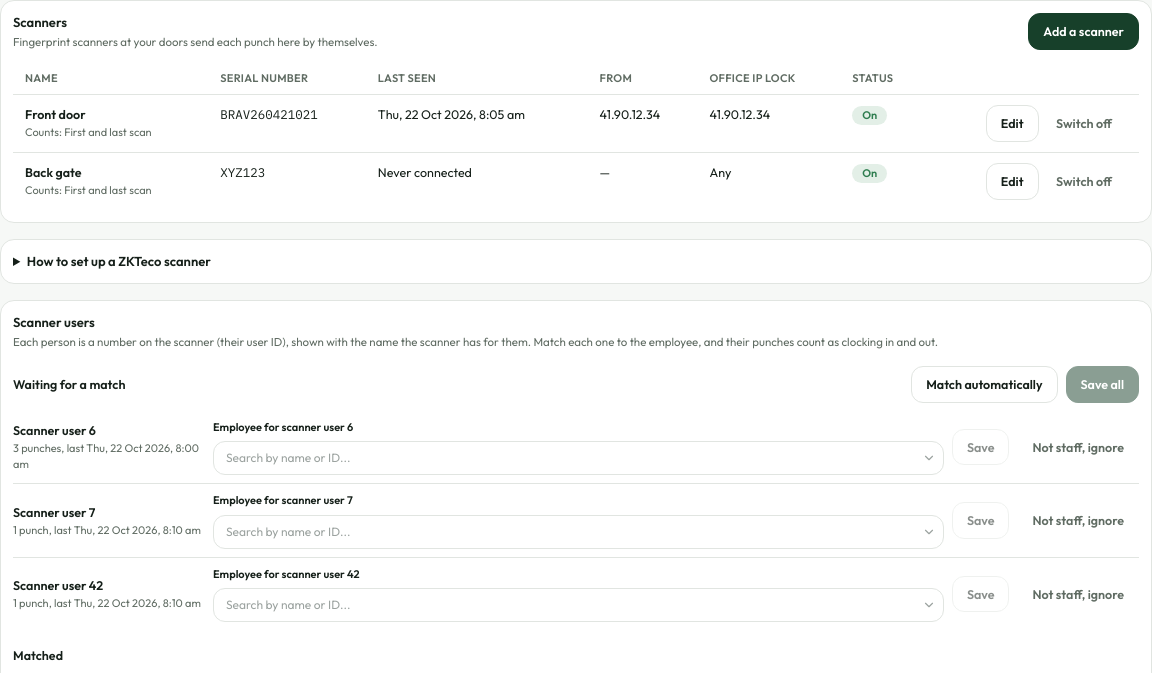
Scanners tab › Match automatically suggests by employee number, and nothing is saved until HR confirms
Later steps or results of the test are not shown.
expect the text "Scanner user 6" is shown: met, box [13, 422, 96, 438]
Click the button "Match automatically".
click(984, 384)  # box [911, 366, 1058, 403]
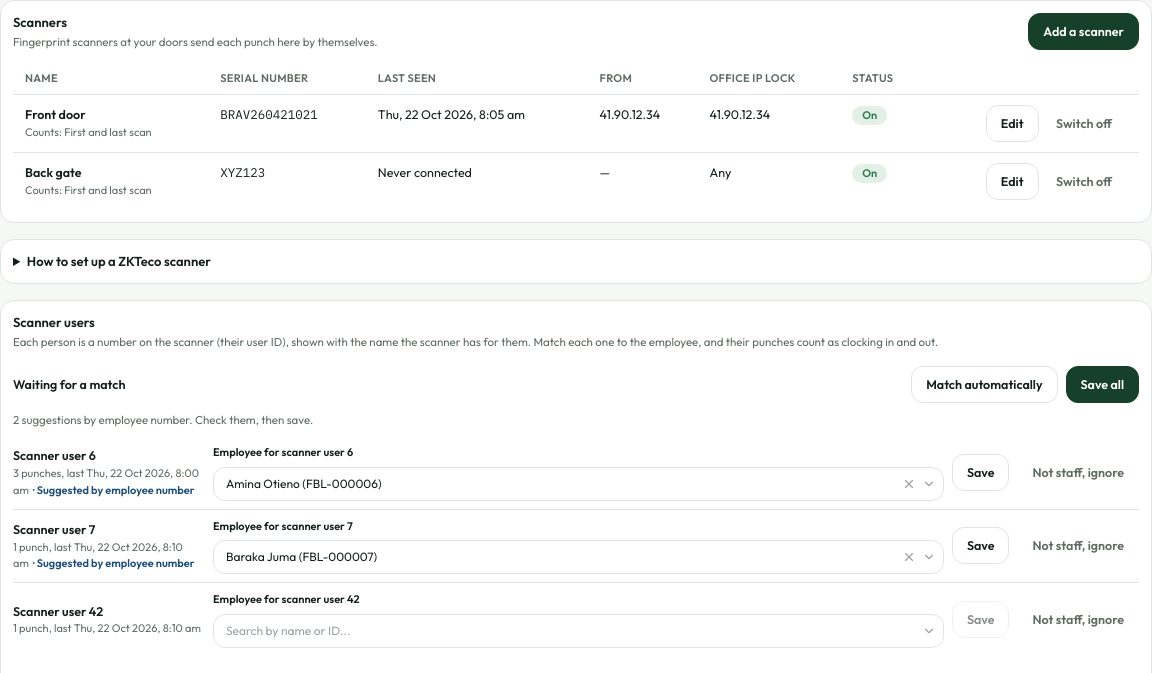
expect the message shows "2 suggestions": met, box [13, 412, 81, 427]
expect the dropdown labelled "Employee for scanner user 6" holds "Amina Otieno (FBL-000006)": met, box [213, 466, 944, 500]
expect the dropdown labelled "Employee for scanner user 7" holds "Baraka Juma (FBL-000007)": met, box [213, 540, 944, 574]
